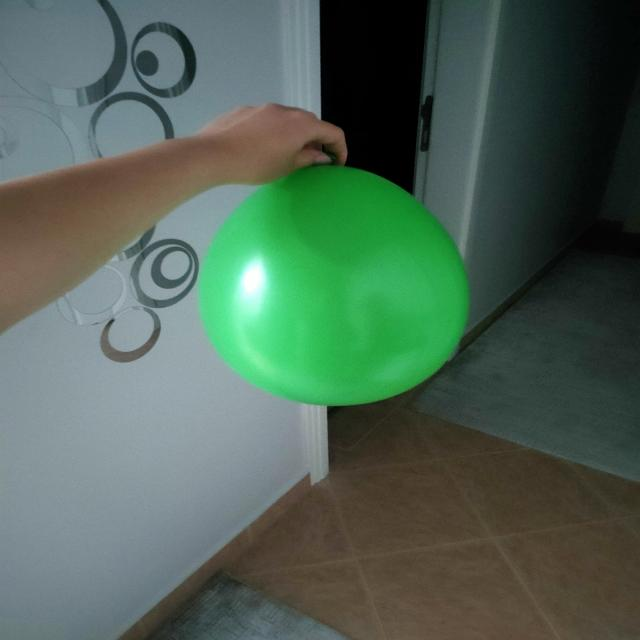green: (200, 161, 467, 409)
